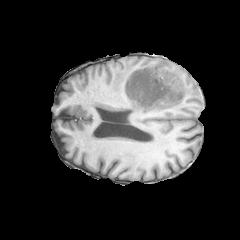glioma: (110, 60, 199, 114)
